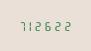one: (26, 20, 34, 31)
seven: (17, 20, 25, 31)
six: (45, 20, 53, 31)
two: (36, 20, 44, 31), (54, 20, 62, 31), (63, 20, 71, 31)
